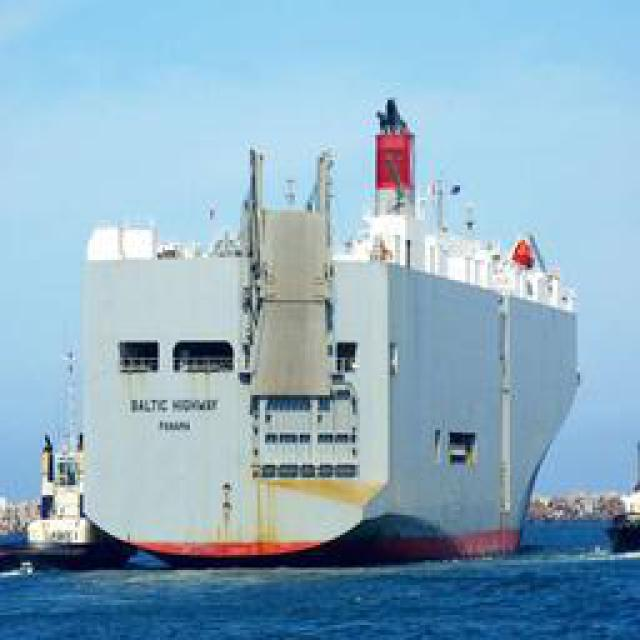Ship: (36, 146, 594, 569)
